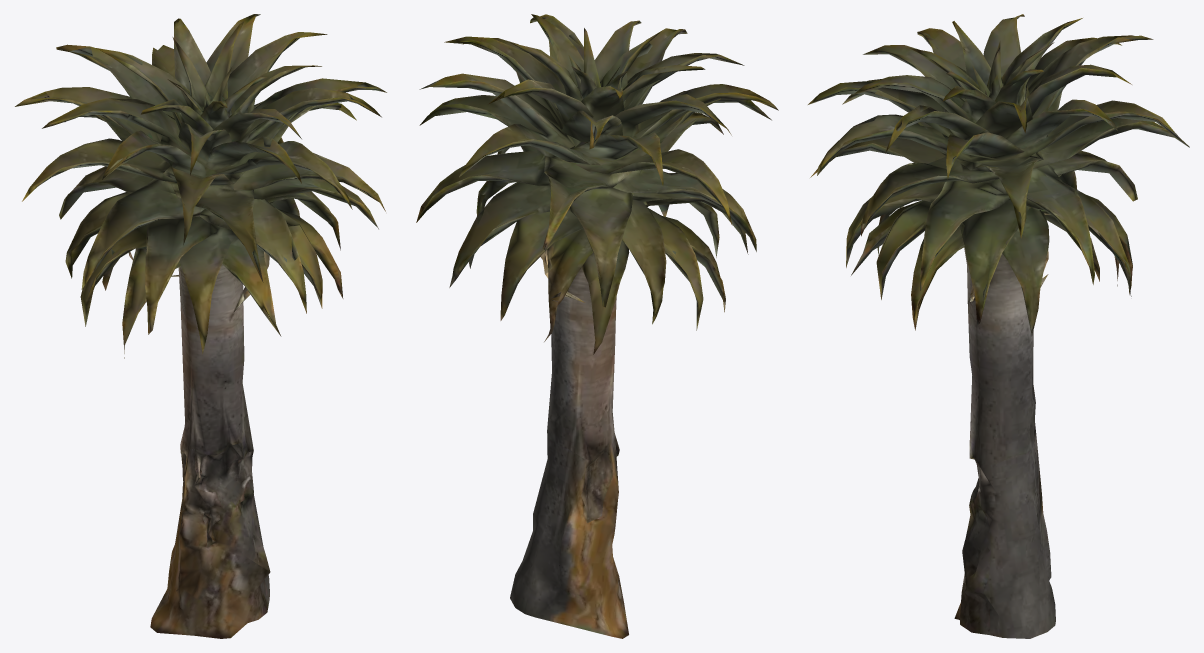
File: quiver_tree_02.glb
3 renders of one model, left to right at view 1: azimuth 30°, elevation 25°; view 2: azimuth 150°, elevation 25°; view 3: azimuth 270°, elevation 25°, orthographic.
Parts seen in each view (by area): view 1: quiver_tree_02; view 2: quiver_tree_02; view 3: quiver_tree_02.
Part boxes in pixels (bbox=[...]): quiver_tree_02: bbox=[15, 14, 386, 638]; quiver_tree_02: bbox=[416, 14, 778, 638]; quiver_tree_02: bbox=[808, 14, 1189, 638].
Size of the model in its own units: 0.8628 by 1.46 by 0.8753.
1 material, 1 textured.
